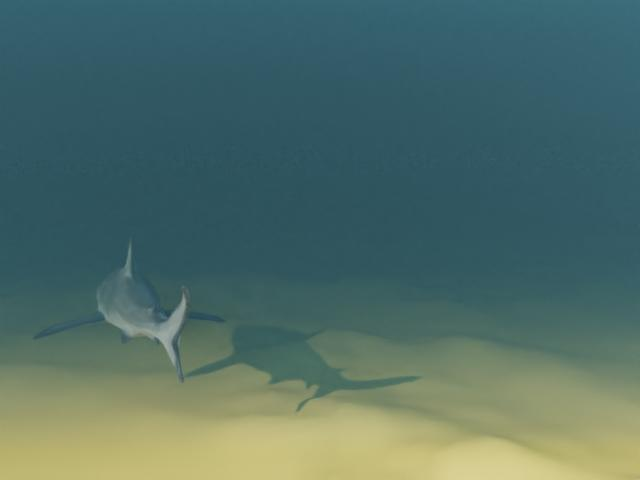Carribean Shark.001: (32, 236, 226, 383)
